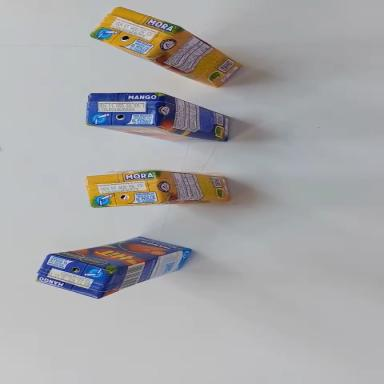HIT-MANGO: (31, 216, 197, 314), (83, 80, 235, 152)
HIT-MORA: (87, 1, 247, 93), (86, 168, 230, 207)
cara_F: (52, 217, 188, 286), (88, 112, 223, 156)
